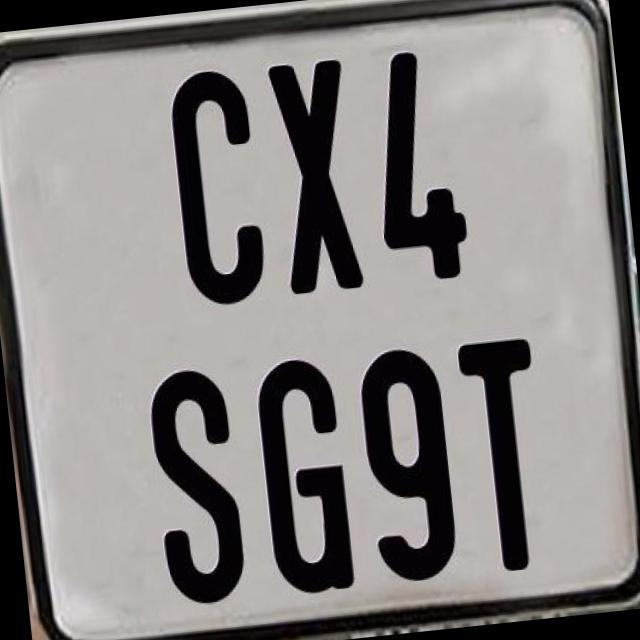4: (361, 45, 474, 292)
9: (351, 340, 457, 584)
C: (166, 64, 270, 306)
G: (252, 356, 358, 602)
S: (142, 362, 246, 608)
T: (454, 334, 558, 578)
X: (264, 59, 366, 298)
